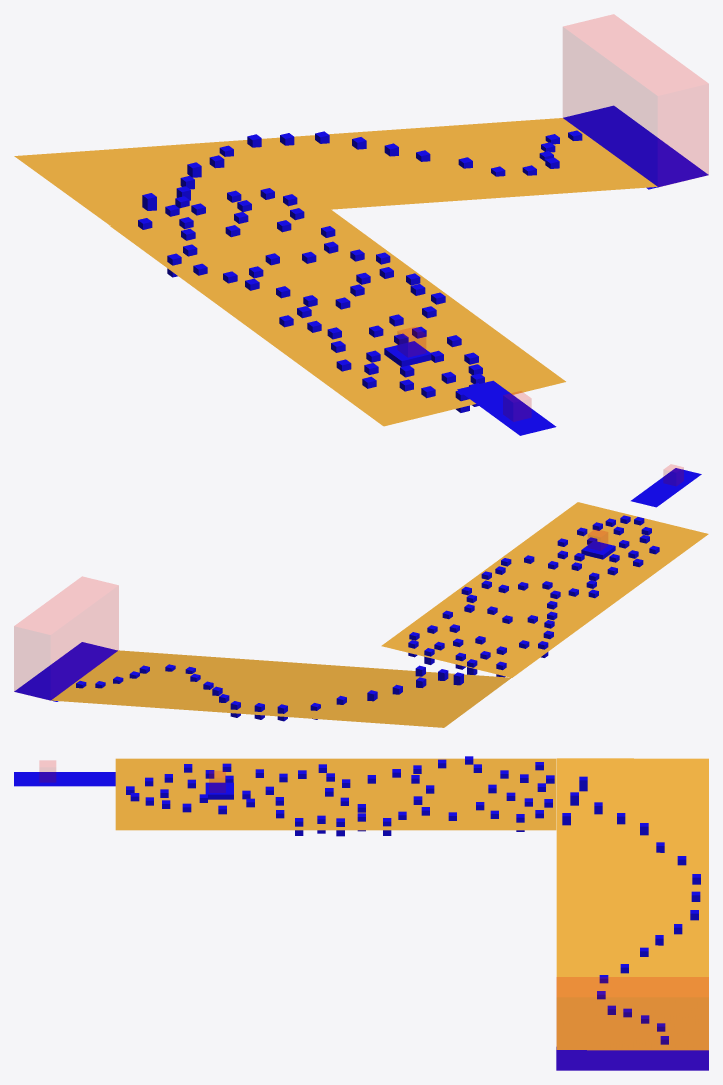
Rendered from lines.glb.
3 renders of one model, top to bottom at view 1: azimuth 30°, elevation 25°; view 2: azimuth 150°, elevation 25°; view 3: azimuth 270°, elevation 25°, orthographic. The views are drawn at different scales.
Visible parts, largest first — view 1: KillZone1, KillZone2, EndZone, Plane.001, Plane, Cube.011, StartZone, SegmentZone1; view 2: KillZone1, KillZone2, EndZone, Plane.001, Plane, Cube.011; view 3: KillZone2, KillZone1, EndZone, Plane.001, Plane, Cube.011.
Part boxes in pixels (x1,y1,x2,y2): KillZone1: (109, 181, 565, 426); KillZone2: (14, 118, 657, 224); EndZone: (563, 14, 708, 186); Plane.001: (563, 105, 708, 189); Plane: (457, 380, 556, 435); Cube.011: (384, 341, 431, 366); StartZone: (503, 391, 530, 421); SegmentZone1: (398, 327, 425, 356); KillZone1: (381, 502, 708, 677); KillZone2: (51, 650, 511, 727); EndZone: (14, 577, 118, 699); Plane.001: (14, 642, 117, 701); Plane: (631, 468, 701, 507); Cube.011: (581, 541, 615, 559); KillZone2: (556, 758, 708, 1050); KillZone1: (115, 758, 556, 830); EndZone: (557, 977, 708, 1069); Plane.001: (556, 1047, 708, 1070); Plane: (14, 772, 115, 786); Cube.011: (205, 782, 233, 799).
Size of what is drawn, in the model's own units: 65.62 by 15.02 by 82.
